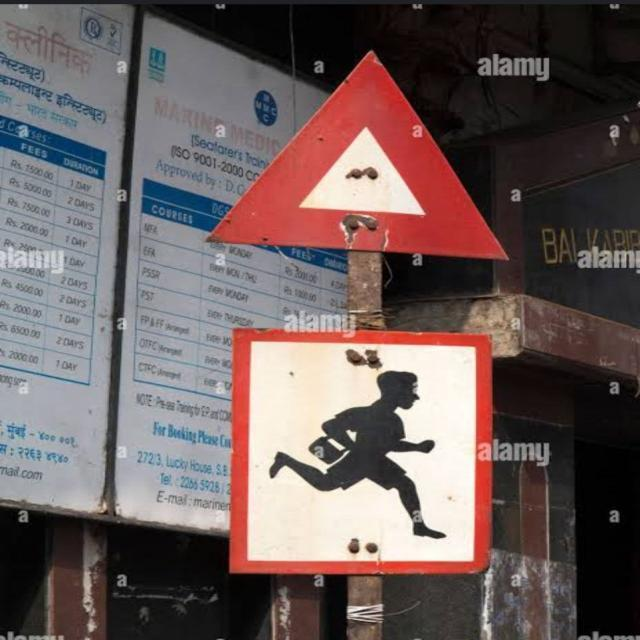school ahead: (235, 326, 491, 573)
